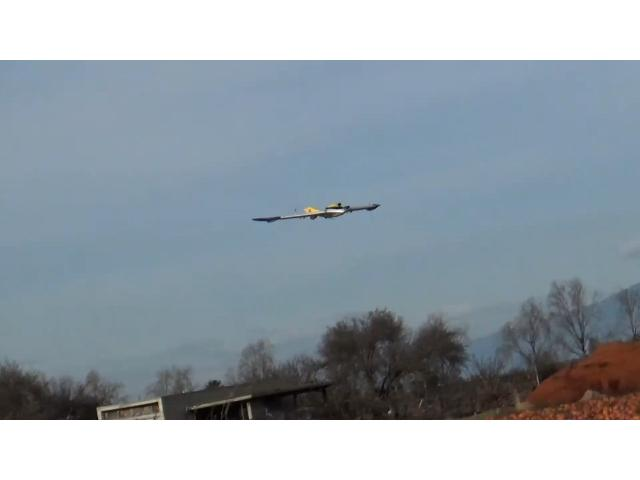Anti-Drone: (252, 203, 380, 223)
